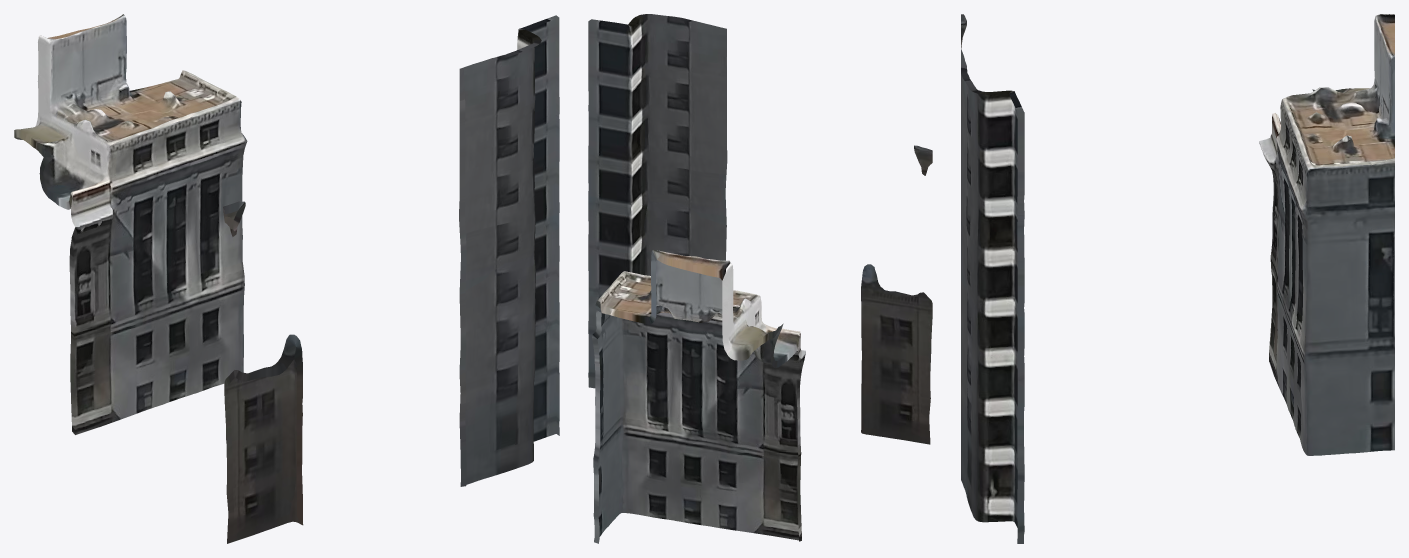
Rendered from z20-167769-405234-h1-yup-uvflip-v3-world.glb.
The picture shows the model from 3 angles, left to right: view 1: azimuth 30°, elevation 25°; view 2: azimuth 150°, elevation 25°; view 3: azimuth 270°, elevation 25°; orthographic projection. The views are drawn at different scales.
Size of the model in its own units: 30.16 by 33.32 by 30.32.
Materials: 1 (1 with a texture image).
